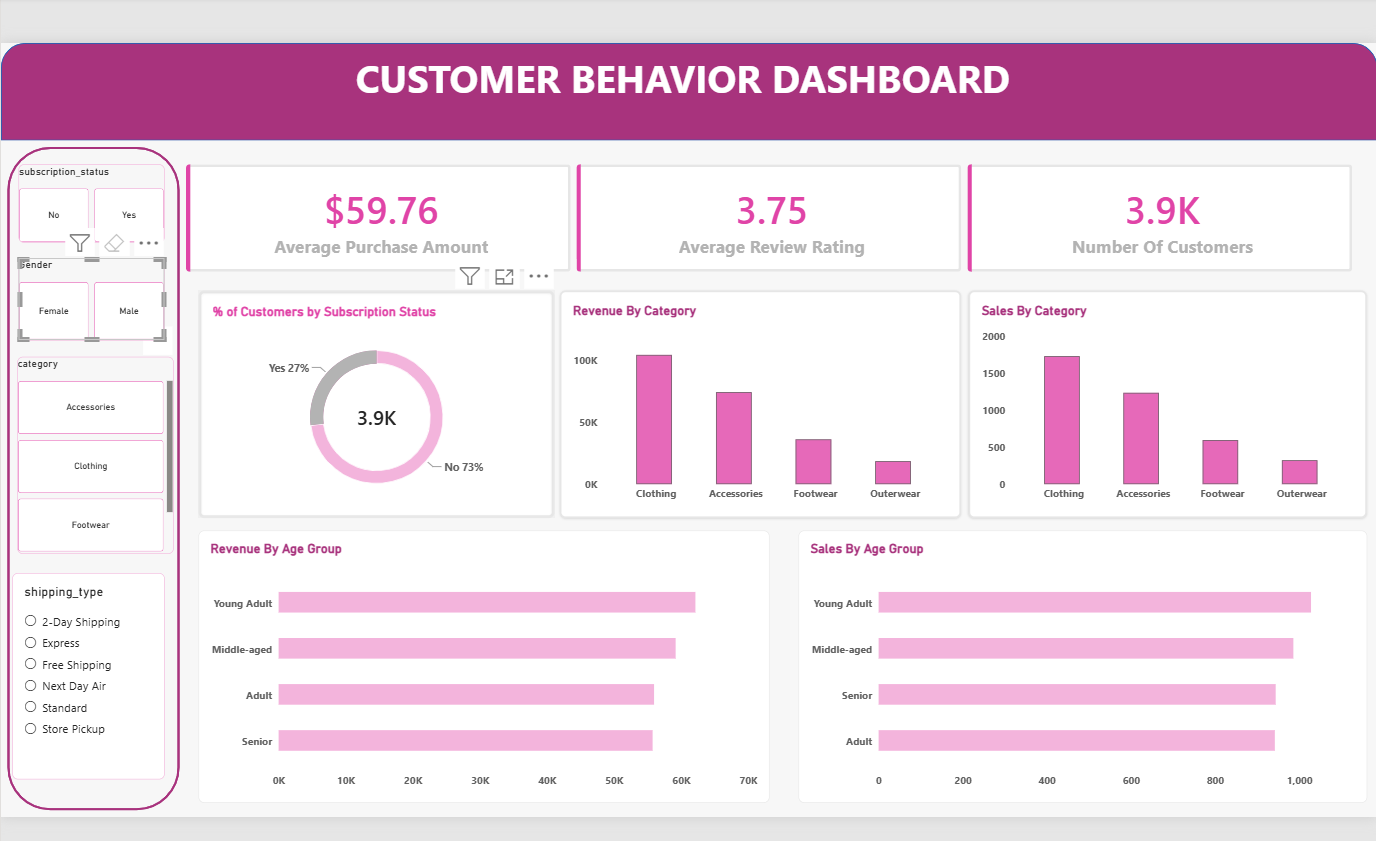

The page's visual inventory and layout, read from the dashboard file:
{"tool":"powerbi","page":{"name":"Page 1","canvas":[1920,1080],"ordinal":0},"visuals":[{"type":"cardVisual","fields":{"Data":["public customer.Average Purchase Amount","public customer.Average Review Rating","public customer.Number Of Customers"]},"box":[258.1,169.2,1629.1,150],"z":0},{"type":"donutChart","title":"% of Customers by Subscription Status","fields":{"Category":["public customer.subscription_status"],"Y":["CountNonNull(public customer.customer_id)"]},"box":[275.6,345.3,497.1,317.4],"z":1000},{"type":"clusteredColumnChart","title":"Revenue By Category","fields":{"Category":["public customer.category"],"Y":["Sum(public customer.purchase_amount)"]},"box":[779.7,345.3,559.9,317.4],"z":2000},{"type":"clusteredColumnChart","title":"Sales By Category","fields":{"Category":["public customer.category"],"Y":["public customer.Number Of Customers"]},"box":[1350,345.3,556.4,317.4],"z":3000},{"type":"shape","box":[0,136,258.1,943.6],"z":4000},{"type":"advancedSlicerVisual","fields":{"Values":["public customer.subscription_status"]},"box":[24.4,169.2,204.1,109.9],"z":5000},{"type":"advancedSlicerVisual","fields":{"Values":["public customer.gender"]},"box":[24.4,300,204.1,115.1],"z":6000},{"type":"advancedSlicerVisual","fields":{"Values":["public customer.category"]},"box":[22.7,437.8,218,275.6],"z":7000},{"type":"listSlicer","fields":{"Values":["public customer.shipping_type"]},"box":[15.7,739.5,212.8,287.8],"z":8000},{"type":"clusteredBarChart","title":"Revenue By Age Group","fields":{"Category":["public customer.age_group"],"Y":["Sum(public customer.purchase_amount)"]},"box":[275.6,680.2,797.1,380.2],"z":9000},{"type":"clusteredBarChart","title":"Sales By Age Group","fields":{"Category":["public customer.age_group"],"Y":["CountNonNull(public customer.customer_id)"]},"box":[1112.8,680.2,793.6,380.2],"z":10000},{"type":"shape","box":[0,0,1920.4,136],"z":11000},{"type":"textbox","box":[99.4,12.2,1704.1,108.1],"z":12000}]}

Visuals, with their boxes on the page's 1920x1080 design canvas (x1, y1, x2, y2). These are canvas units, not pixel positions in the 1376x841 screenshot, which may show the page scaled, cropped or inside an application window:
cardVisual - public customer.Average Purchase Amount x public customer.Average Review Rating: <box>258,169,1887,319</box>
"% of Customers by Subscription Status" donutChart: <box>276,345,773,663</box>
"Revenue By Category" clusteredColumnChart: <box>780,345,1340,663</box>
"Sales By Category" clusteredColumnChart: <box>1350,345,1906,663</box>
shape: <box>0,136,258,1080</box>
advancedSlicerVisual - public customer.subscription_status: <box>24,169,228,279</box>
advancedSlicerVisual - public customer.gender: <box>24,300,228,415</box>
advancedSlicerVisual - public customer.category: <box>23,438,241,713</box>
listSlicer - public customer.shipping_type: <box>16,740,228,1027</box>
"Revenue By Age Group" clusteredBarChart: <box>276,680,1073,1060</box>
"Sales By Age Group" clusteredBarChart: <box>1113,680,1906,1060</box>
shape: <box>0,0,1920,136</box>
textbox: <box>99,12,1804,120</box>
